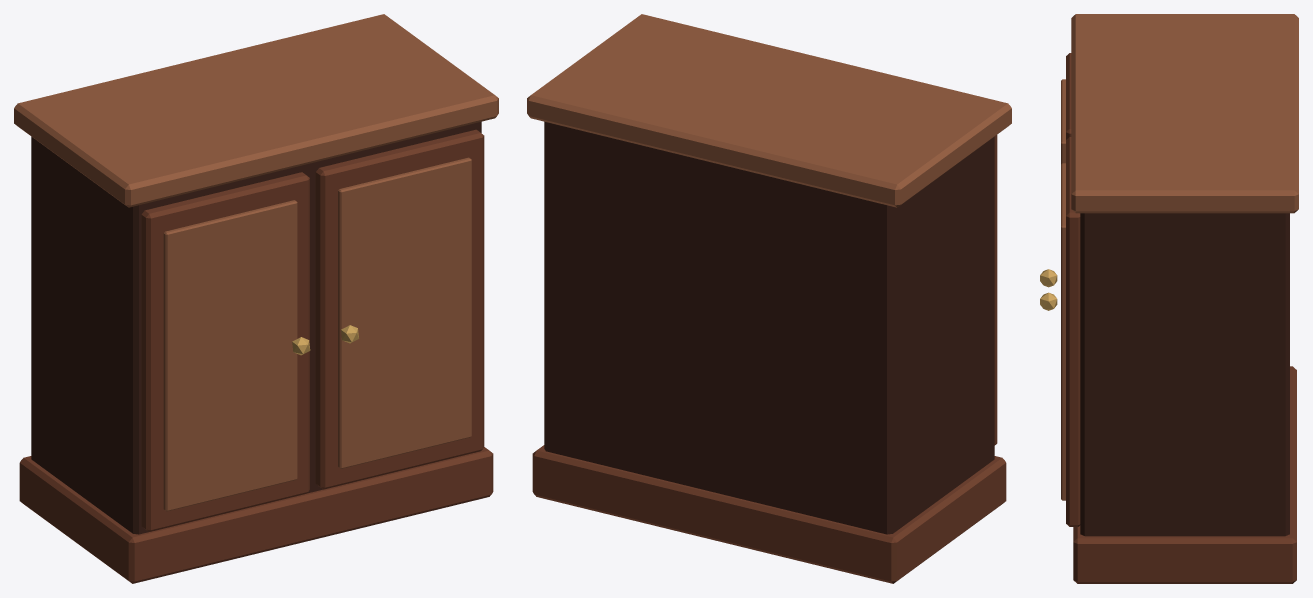
The model's file is cabinet_02.glb.
The picture shows the model from 3 angles, left to right: view 1: azimuth 30°, elevation 25°; view 2: azimuth 150°, elevation 25°; view 3: azimuth 270°, elevation 25°; orthographic projection.
Visible parts, largest first — view 1: Top, Body, Inset_00, Inset_01, Plinth, Front_01, Front_00; view 2: Body, Top, Plinth, Front_00; view 3: Body, Top, Plinth, Front_01, Inset_01, Front_00, Inset_00.
Part boxes in pixels (box(x1,y1,x2,y2)): Top: box(14, 14, 498, 207); Body: box(31, 121, 481, 534); Inset_00: box(163, 200, 297, 511); Inset_01: box(338, 157, 471, 468); Plinth: box(19, 447, 493, 583); Front_01: box(315, 129, 484, 489); Front_00: box(141, 172, 309, 531); Body: box(544, 121, 994, 534); Top: box(527, 14, 1011, 207); Plinth: box(532, 445, 1006, 583); Front_00: box(994, 135, 997, 445); Body: box(1080, 213, 1289, 536); Top: box(1071, 14, 1298, 213); Plinth: box(1073, 366, 1296, 583); Front_01: box(1066, 137, 1080, 526); Inset_01: box(1061, 163, 1065, 500); Front_00: box(1066, 53, 1071, 139); Inset_00: box(1061, 79, 1065, 164).
Size of the model in its own units: 1.18 by 1.21 by 0.7168.
